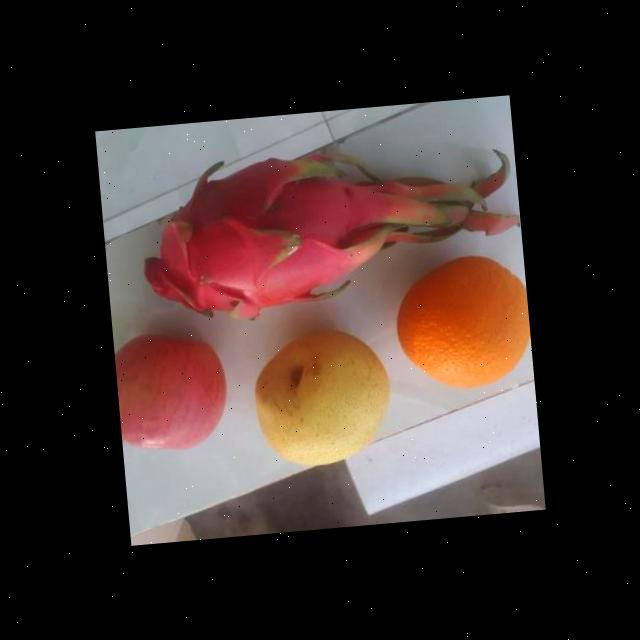apple: (113, 330, 231, 454)
orange: (387, 250, 534, 392)
pear: (243, 325, 398, 468)
pitaya: (140, 162, 372, 326)
